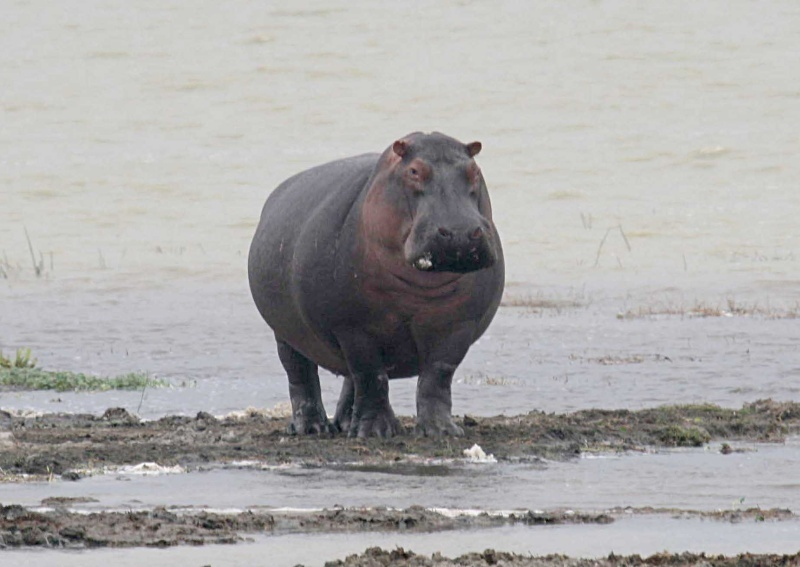hipopotamo: (237, 112, 531, 462)
